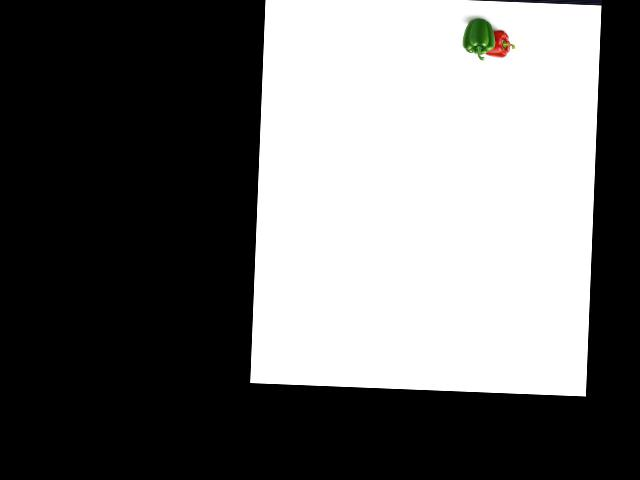bell_pepper: (484, 30, 515, 61)
